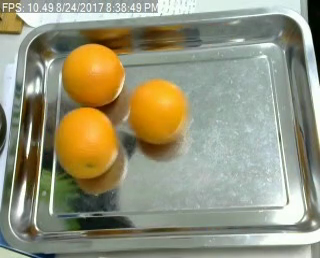Orange: (55, 108, 118, 178), (63, 43, 125, 106), (128, 80, 186, 144)
